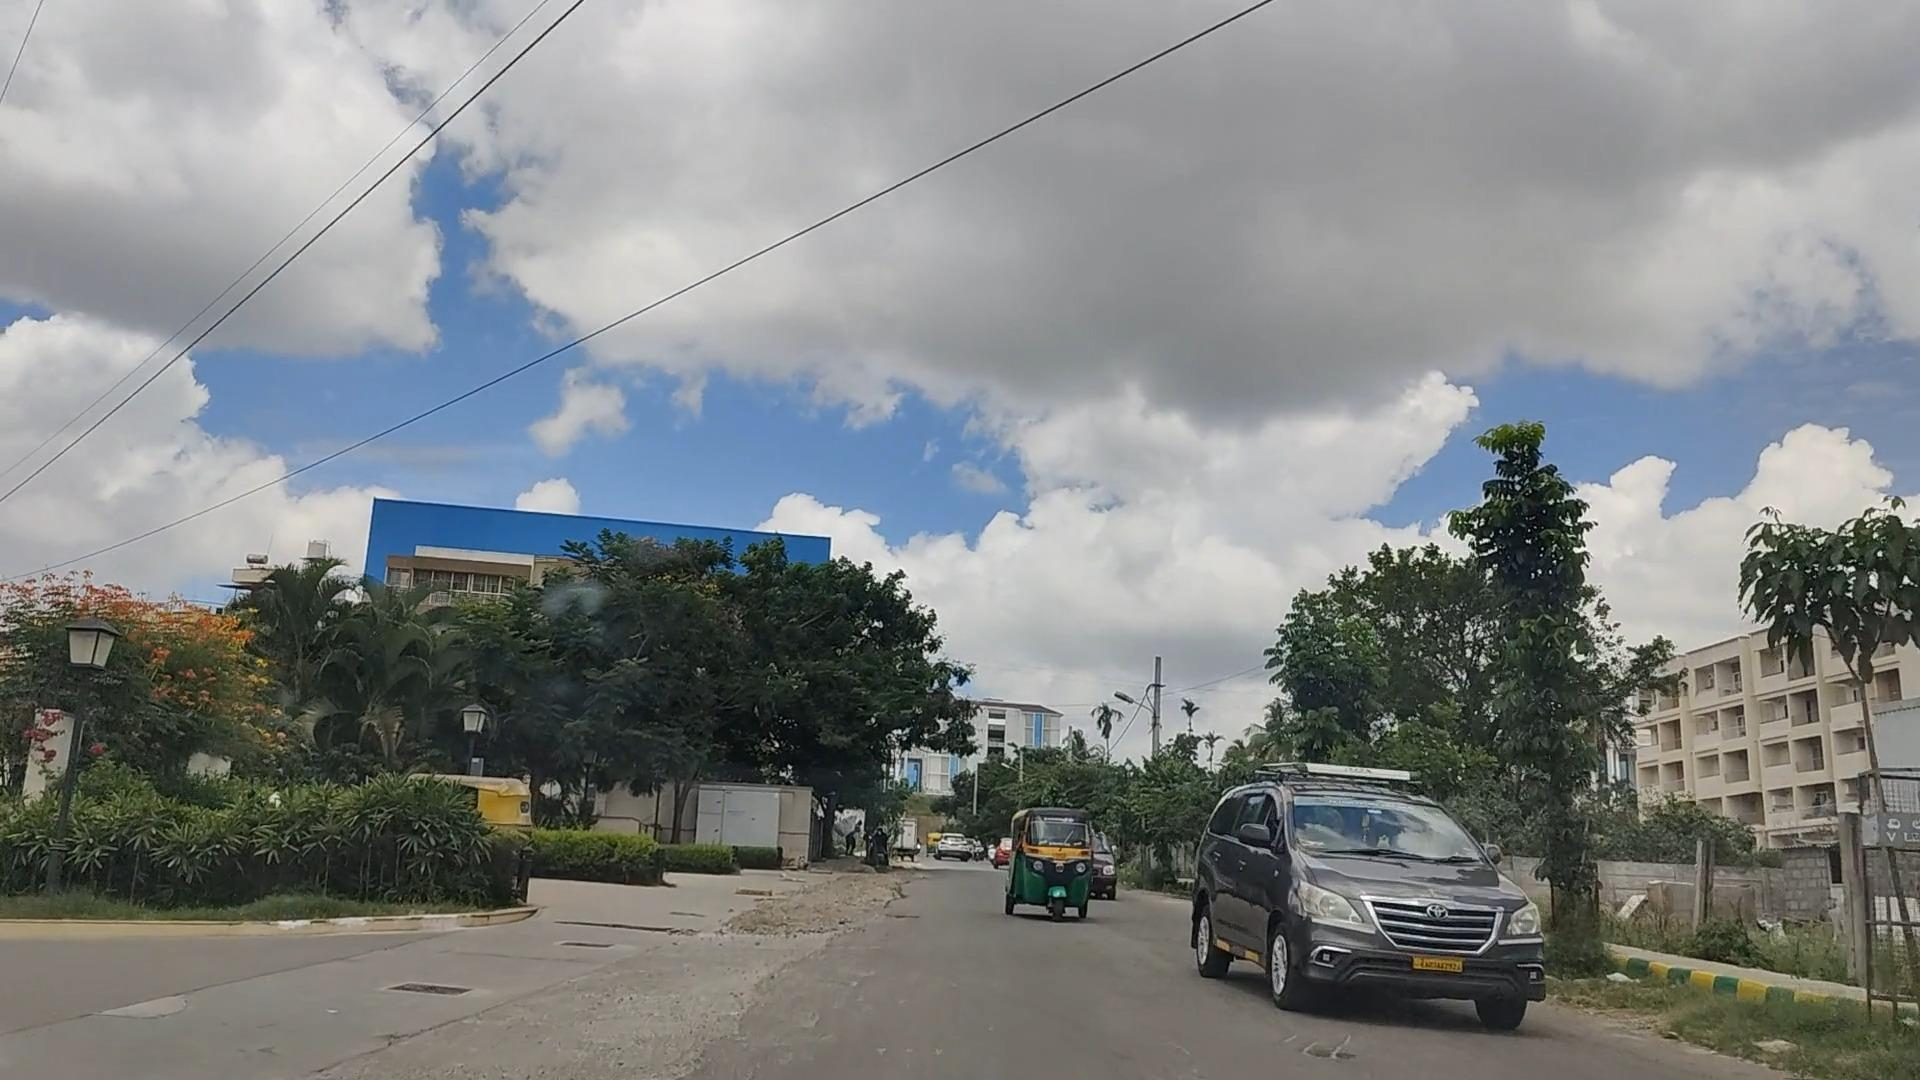RoadDamages: (589, 943, 825, 1080), (745, 870, 985, 956), (1246, 996, 1403, 1080)
